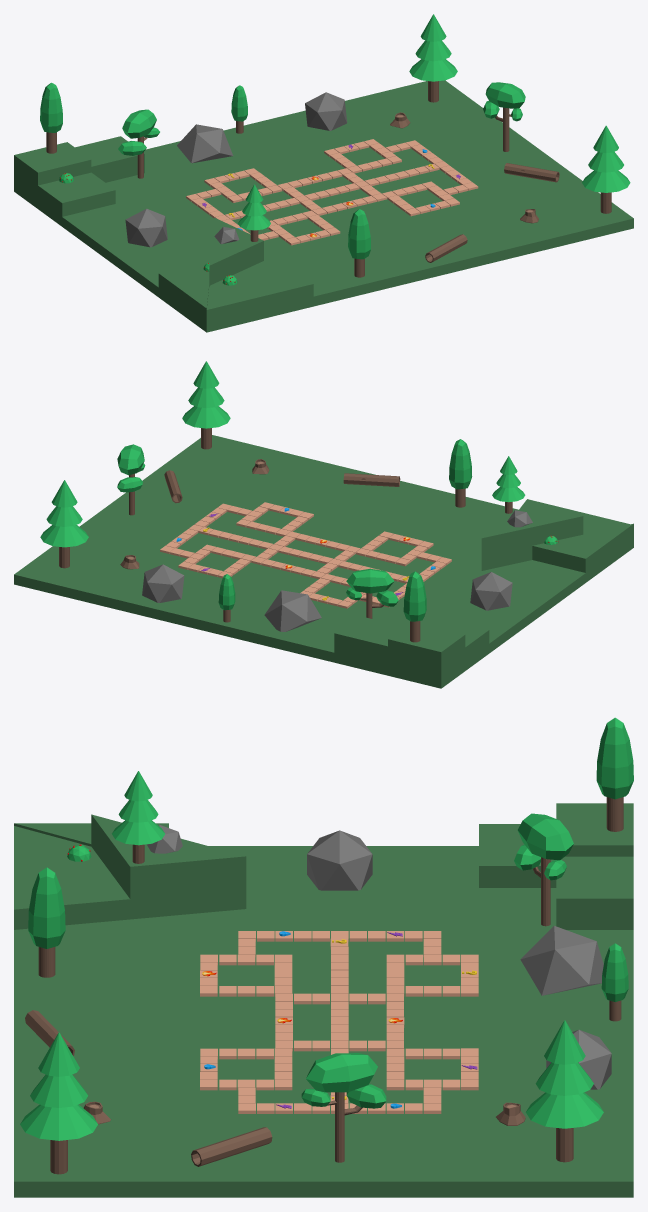
File: mapa.glb
3 views of the same model, one above another, from view 1: azimuth 30°, elevation 25°; view 2: azimuth 150°, elevation 25°; view 3: azimuth 270°, elevation 25° (orthographic). The views are drawn at different scales.
Parts seen in each view (by area): view 1: Cubo.035, Círculo.001, Círculo, Cubo.013, Esfera geodésica.005, Cubo, Esfera geodésica.003, Esfera geodésica.006, Círculo.002, Círculo.005, Círculo.003, Círculo.007 (+2 smaller); view 2: Cubo.035, Círculo.001, Círculo, Esfera geodésica.005, Cubo, Esfera geodésica.003, Esfera geodésica.006, Círculo.002, Cubo.013, Círculo.005, Círculo.003, Círculo.006 (+1 smaller); view 3: Cubo.035, Círculo, Círculo.001, Cubo.013, Esfera geodésica.005, Cubo, Esfera geodésica.003, Círculo.002, Círculo.005, Círculo.003, Círculo.004, Círculo.007 (+2 smaller).
Boxes of the visible parts, <box> form: Cubo.035: <box>14,80,633,332</box>; Círculo.001: <box>582,125,630,213</box>; Círculo: <box>409,14,457,102</box>; Cubo.013: <box>483,82,525,151</box>; Esfera geodésica.005: <box>177,124,233,163</box>; Cubo: <box>118,109,159,178</box>; Esfera geodésica.003: <box>125,208,167,247</box>; Esfera geodésica.006: <box>305,92,347,130</box>; Círculo.002: <box>40,82,62,153</box>; Círculo.005: <box>348,209,370,277</box>; Círculo.003: <box>238,184,270,241</box>; Círculo.007: <box>504,163,559,182</box>; Cubo.035: <box>14,435,633,688</box>; Círculo.001: <box>182,361,230,449</box>; Círculo: <box>40,480,88,568</box>; Esfera geodésica.005: <box>264,590,321,631</box>; Cubo: <box>346,568,398,618</box>; Esfera geodésica.003: <box>470,572,512,610</box>; Esfera geodésica.006: <box>142,564,184,602</box>; Círculo.002: <box>403,571,426,642</box>; Cubo.013: <box>117,444,145,515</box>; Círculo.005: <box>449,439,472,507</box>; Círculo.003: <box>492,456,525,513</box>; Círculo.006: <box>343,473,400,486</box>; Cubo.035: <box>14,803,633,1197</box>; Círculo: <box>526,1020,603,1162</box>; Círculo.001: <box>20,1032,97,1174</box>; Cubo.013: <box>301,1053,386,1162</box>; Esfera geodésica.005: <box>520,925,603,995</box>; Cubo: <box>514,813,573,926</box>; Esfera geodésica.003: <box>307,830,372,890</box>; Círculo.002: <box>596,717,633,831</box>; Círculo.005: <box>28,867,65,977</box>; Círculo.003: <box>112,771,164,863</box>; Círculo.004: <box>601,943,628,1021</box>; Círculo.007: <box>191,1127,272,1166</box>.
Bounding box in the file's own units: 8.45 × 1.96 × 6.49.
